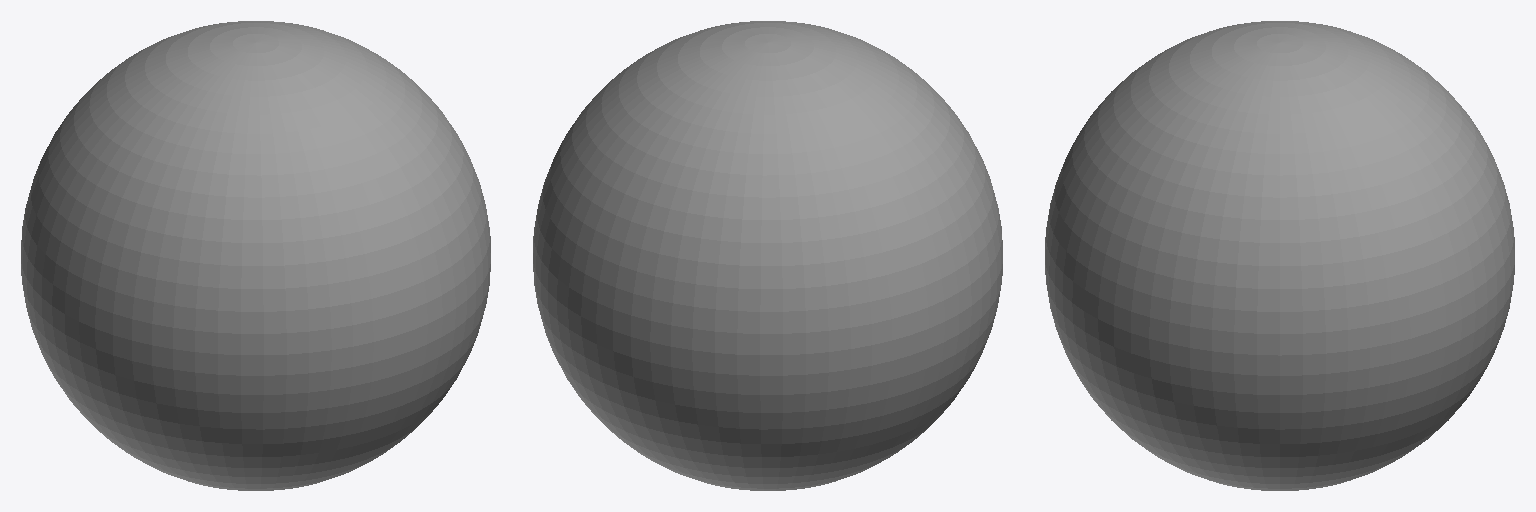
File: earth.obj
3 views of the same model, side by side, from view 1: azimuth 30°, elevation 25°; view 2: azimuth 150°, elevation 25°; view 3: azimuth 270°, elevation 25° (orthographic).
Parts seen in each view (by area): view 1: Sphere; view 2: Sphere; view 3: Sphere.
Part boxes in pixels (x1,y1,x2,y2): Sphere: (21, 21, 490, 490); Sphere: (533, 21, 1002, 490); Sphere: (1045, 21, 1514, 490).
Size of the model in its own units: 101 by 101 by 101.